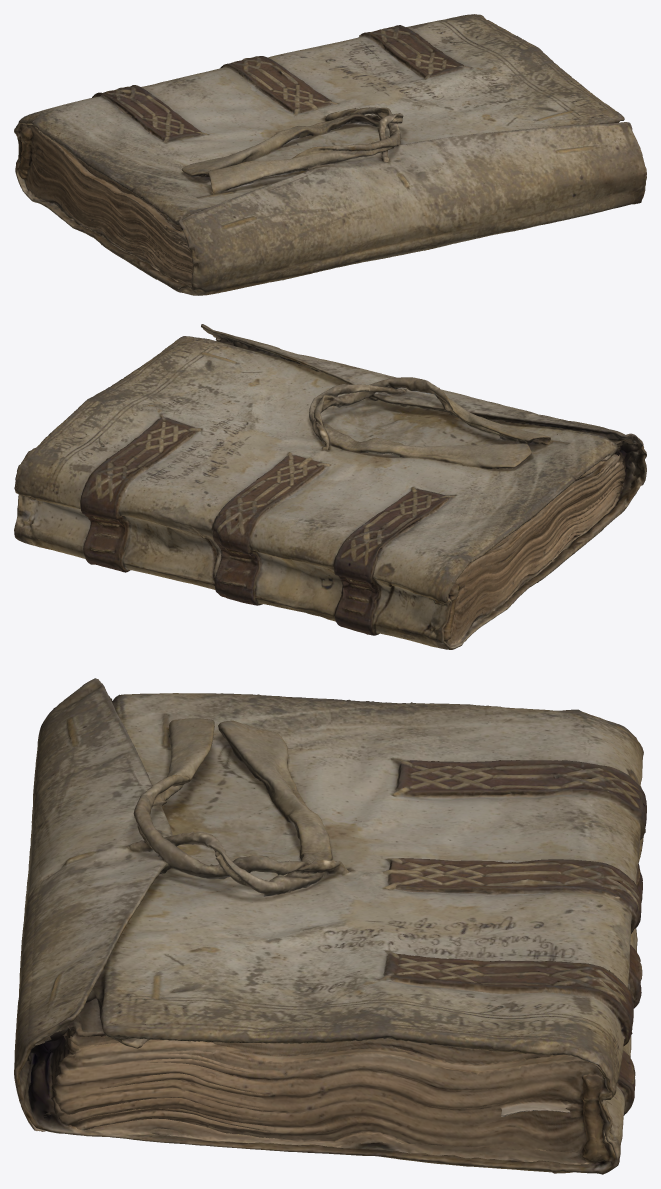
3 views of the same model, one above another, from view 1: azimuth 30°, elevation 25°; view 2: azimuth 150°, elevation 25°; view 3: azimuth 270°, elevation 25° (orthographic). The views are drawn at different scales.
Parts seen in each view (by area): view 1: barberini_v73a_closed_new_testing_chunks_deci200k; view 2: barberini_v73a_closed_new_testing_chunks_deci200k; view 3: barberini_v73a_closed_new_testing_chunks_deci200k.
Part boxes in pixels (x1,y1,x2,y2): barberini_v73a_closed_new_testing_chunks_deci200k: (14,14,646,295); barberini_v73a_closed_new_testing_chunks_deci200k: (14,324,646,649); barberini_v73a_closed_new_testing_chunks_deci200k: (14,678,646,1174).
Bounding box in the file's own units: 34.61 × 8.72 × 26.65.
